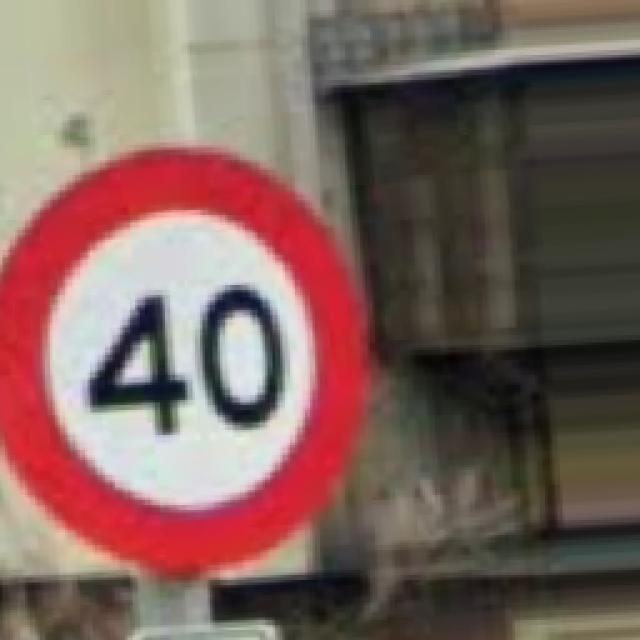Speed Limit -40-: (0, 148, 365, 572)
